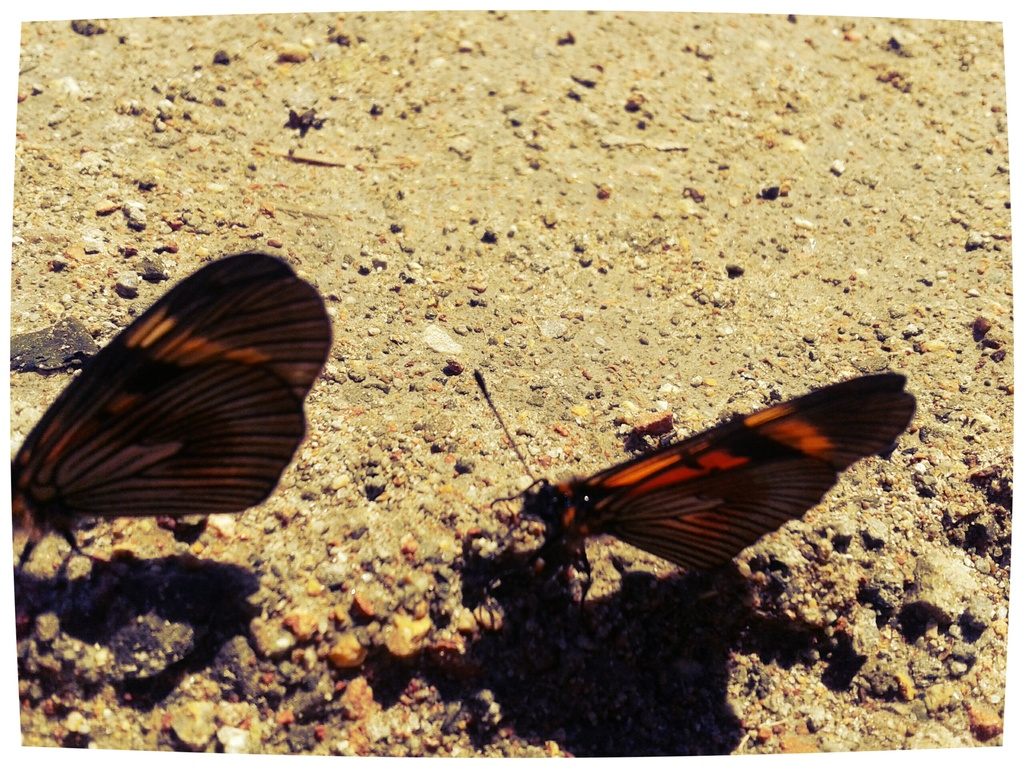Butterfly: (456, 354, 922, 675)
